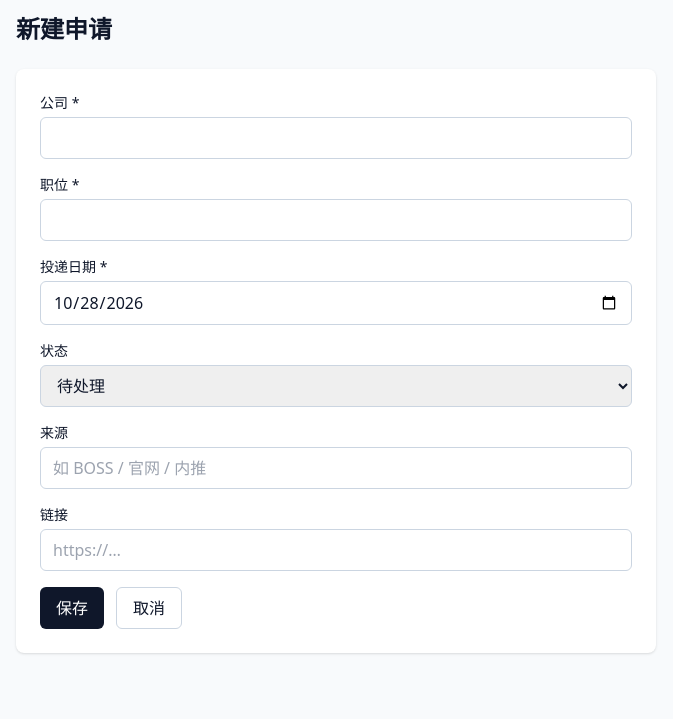
Test: ApplicationNew 表单校验 › company 为空显示字段错误且不提交
// 触发表单校验（company 为空、position 为空）
Click the button with test id "app-save": x=72, y=608 [40,587,104,629]
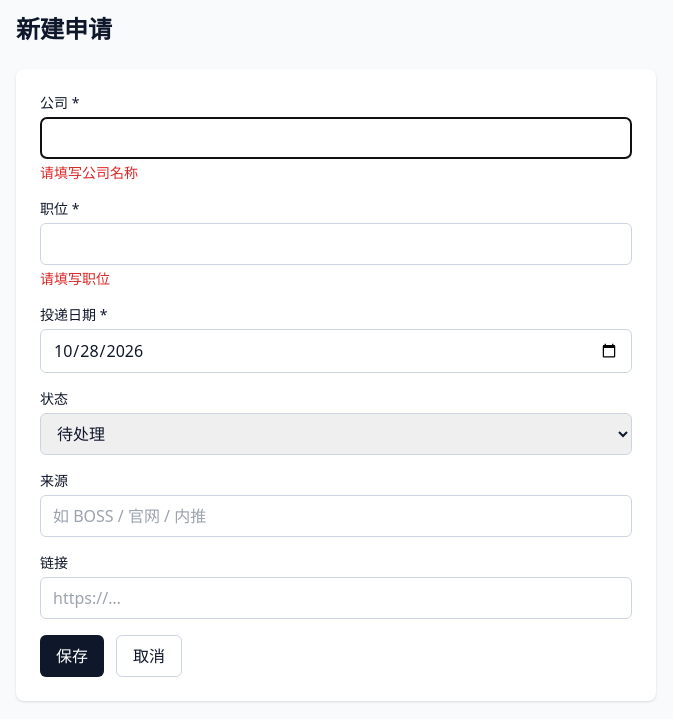
Now the text "请填写公司名称" is shown, box [40,163,138,182]
Now the text "请填写职位" is shown, box [40,269,110,288]
